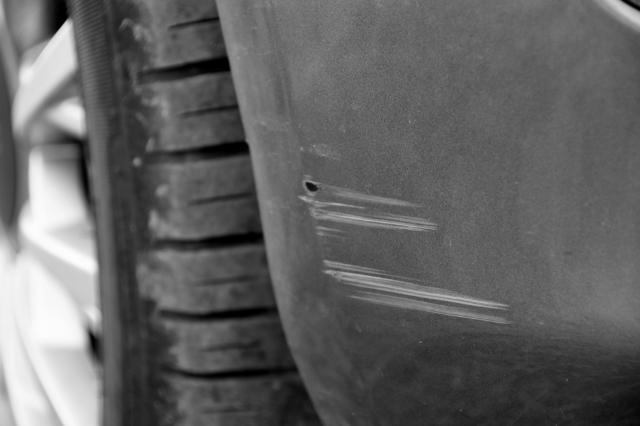Bumper: (249, 4, 589, 421)
